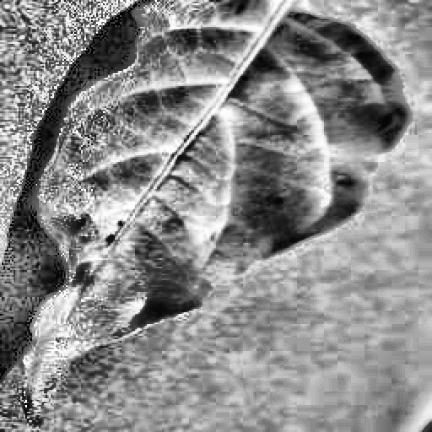leaf: (24, 0, 407, 424)
